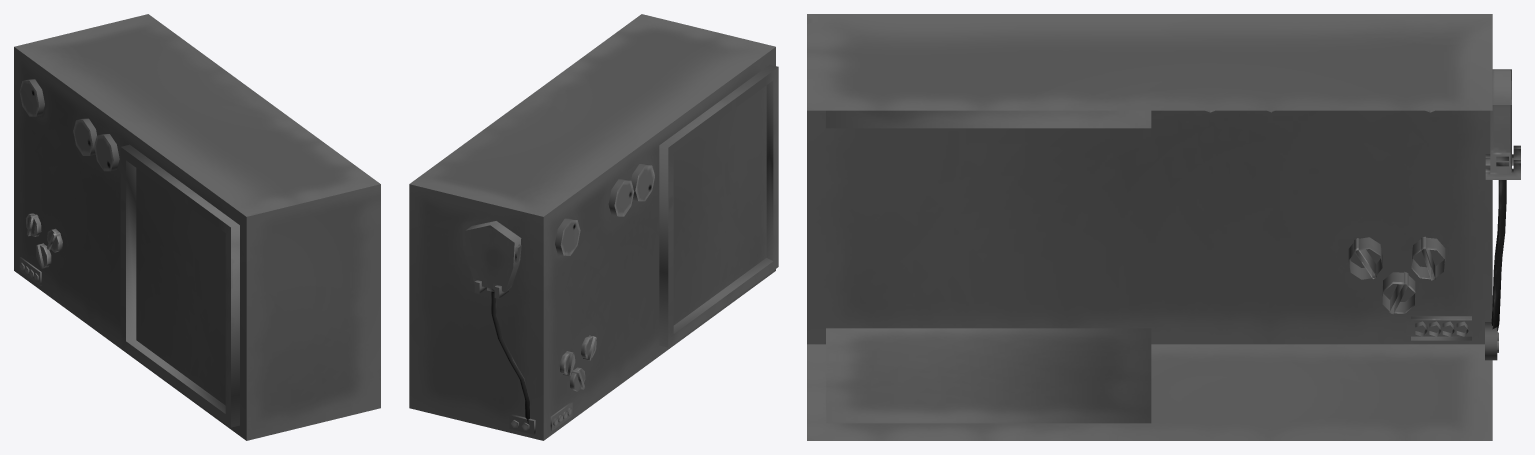
The model's file is Transmitter.fbx.
3 renders of one model, left to right at view 1: azimuth 30°, elevation 25°; view 2: azimuth 150°, elevation 25°; view 3: azimuth 270°, elevation 25°, orthographic. The views are drawn at different scales.
Parts seen in each view (by area): view 1: Cube.002; view 2: Cube.002; view 3: Cube.002.
Part boxes in pixels (<box>): Cube.002: <box>14,14,380,440</box>; Cube.002: <box>409,14,778,440</box>; Cube.002: <box>807,14,1520,440</box>.
Bounding box in the file's own units: 55.94 × 83.5 × 164.
